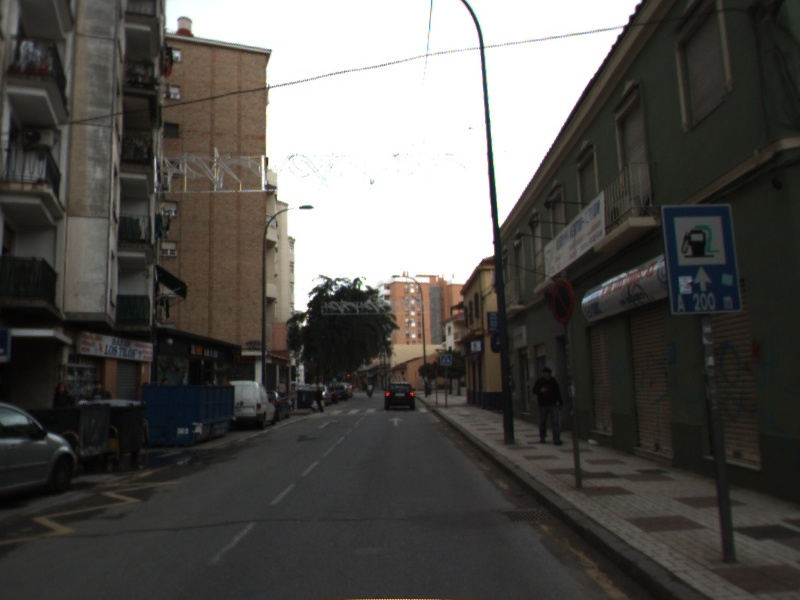STRAIGHT: (316, 417, 340, 431), (386, 415, 406, 428)
